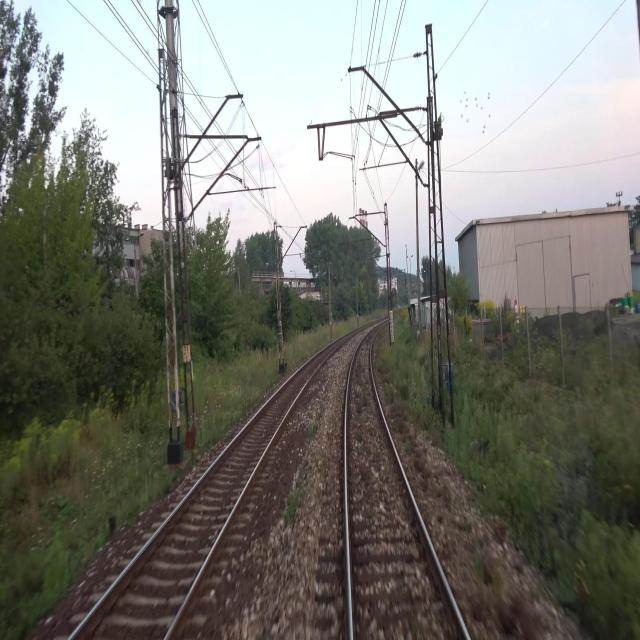rail-track: (347, 328, 466, 639)
